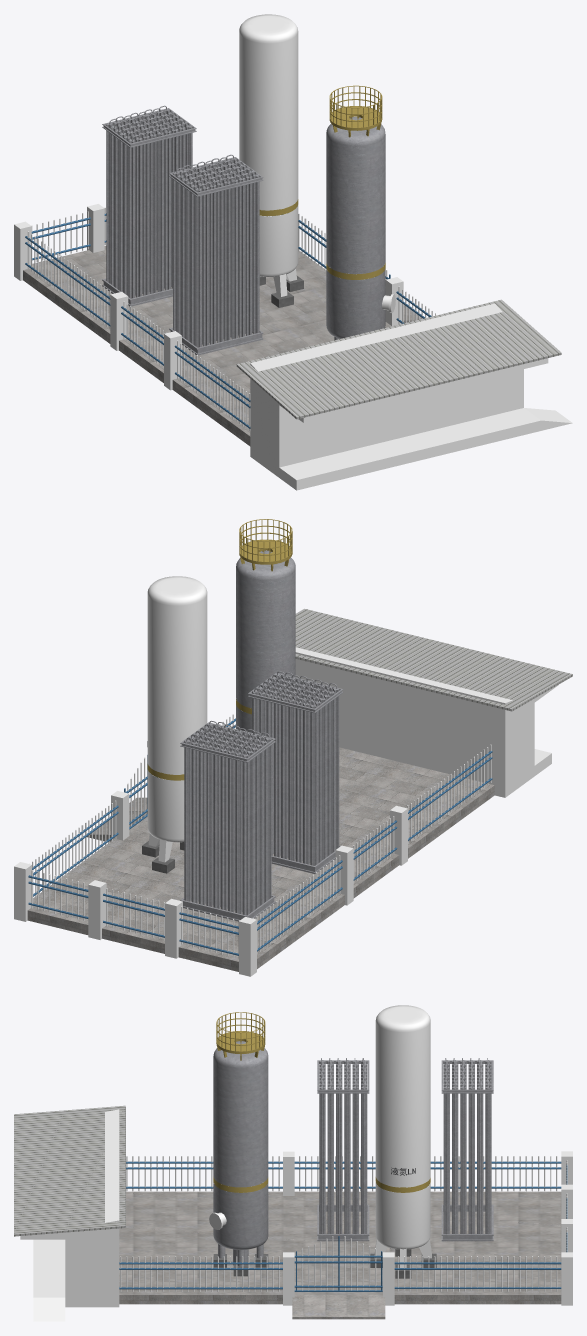
File: 氮气站.glb
3 views of the same model, one above another, from view 1: azimuth 30°, elevation 25°; view 2: azimuth 150°, elevation 25°; view 3: azimuth 270°, elevation 25° (orthographic). The views are drawn at different scales.
Parts seen in each view (by area): view 1: 氮气站02, 氮气站01, 氮气站08, 氮气站07, 氮气站00, 氮气站03, 氮气站04; view 2: 氮气站02, 氮气站00, 氮气站01, 氮气站08, 氮气站07, 氮气站03, 氮气站04; view 3: 氮气站00, 氮气站02, 氮气站08, 氮气站01, 氮气站07, 氮气站03, 氮气站04, 氮气站05.
Part boxes in pixels (<box>): 氮气站02: <box>102,105,385,355</box>; 氮气站01: <box>14,204,572,490</box>; 氮气站08: <box>27,14,435,431</box>; 氮气站07: <box>236,299,561,419</box>; 氮气站00: <box>23,246,421,446</box>; 氮气站03: <box>25,213,431,428</box>; 氮气站04: <box>259,85,385,279</box>; 氮气站02: <box>180,550,343,921</box>; 氮气站00: <box>27,747,494,971</box>; 氮气站01: <box>14,647,558,976</box>; 氮气站08: <box>29,576,491,958</box>; 氮气站07: <box>295,608,572,711</box>; 氮气站03: <box>28,718,492,955</box>; 氮气站04: <box>147,519,292,780</box>; 氮气站00: <box>119,1191,561,1319</box>; 氮气站02: <box>213,1041,493,1266</box>; 氮气站08: <box>120,1005,567,1291</box>; 氮气站01: <box>20,1109,572,1321</box>; 氮气站07: <box>14,1105,125,1236</box>; 氮气站03: <box>119,1161,567,1291</box>; 氮气站04: <box>213,1012,430,1192</box>; 氮气站05: <box>213,1249,436,1278</box>.
Size of the model in its own units: 12.88 by 11.97 by 23.39.
Materials: 9 (7 with a texture image).
